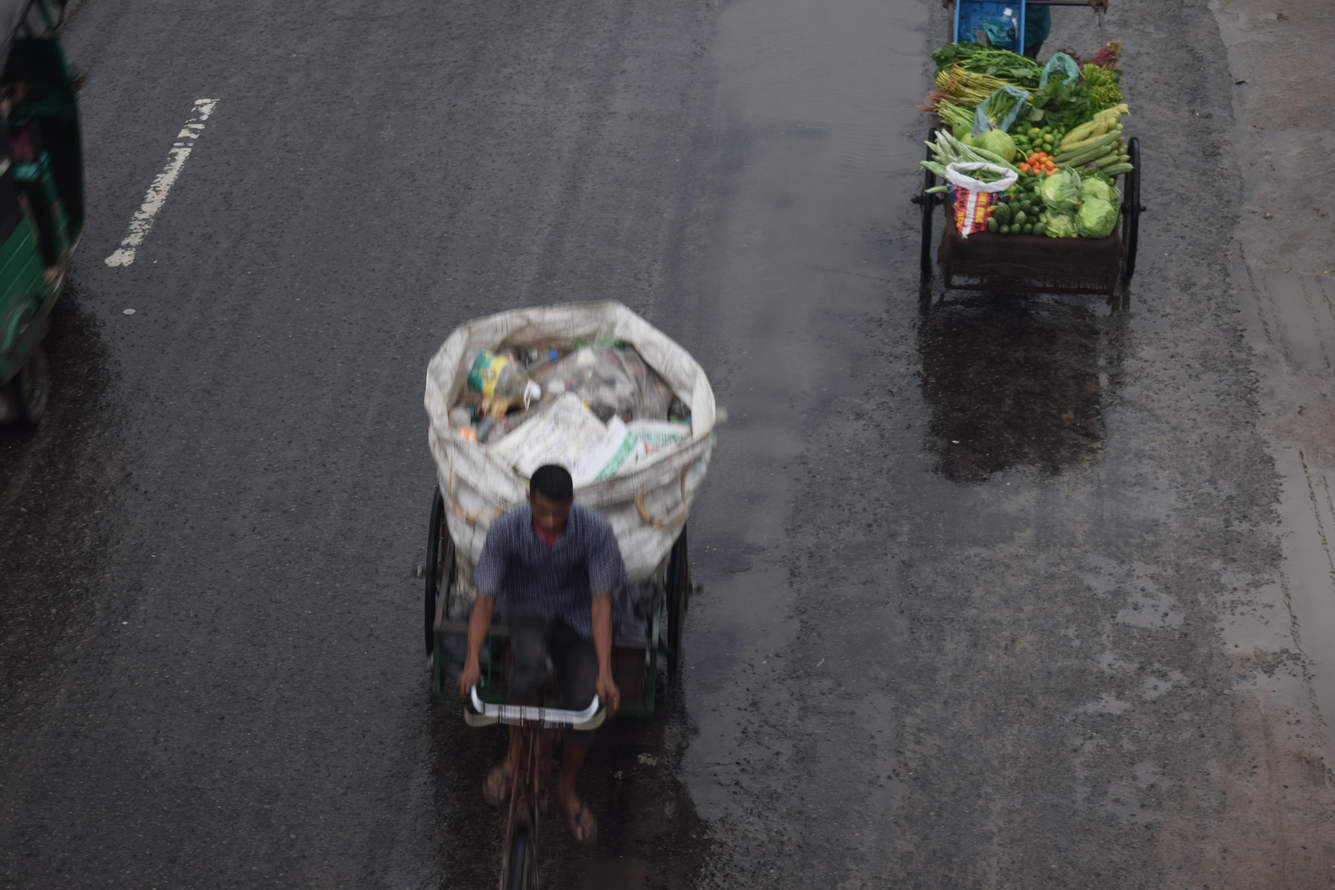Car: (300, 235, 786, 890)
